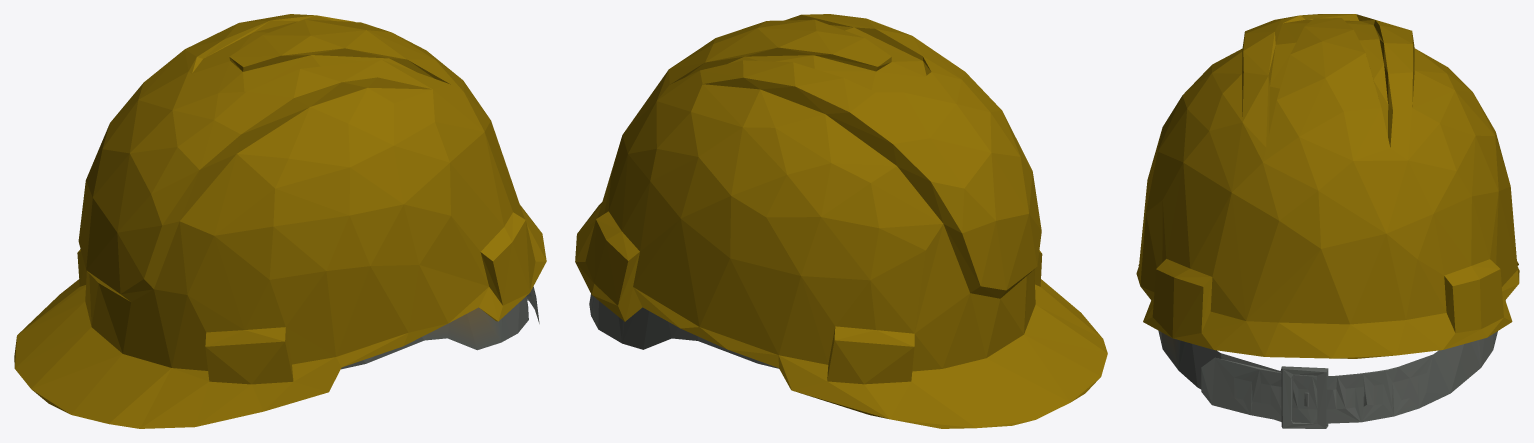
The model's file is hardhat.glb.
The picture shows the model from 3 angles, left to right: view 1: azimuth 30°, elevation 25°; view 2: azimuth 150°, elevation 25°; view 3: azimuth 270°, elevation 25°; orthographic projection. The views are drawn at different scales.
Parts seen in each view (by area): view 1: geometry_0; view 2: geometry_0; view 3: geometry_0.
Part boxes in pixels (x1,y1,x2,y2): geometry_0: (14, 14, 546, 428); geometry_0: (575, 14, 1107, 428); geometry_0: (1136, 14, 1519, 428).
Bounding box in the file's own units: 1.12 × 0.6726 × 0.7987.
